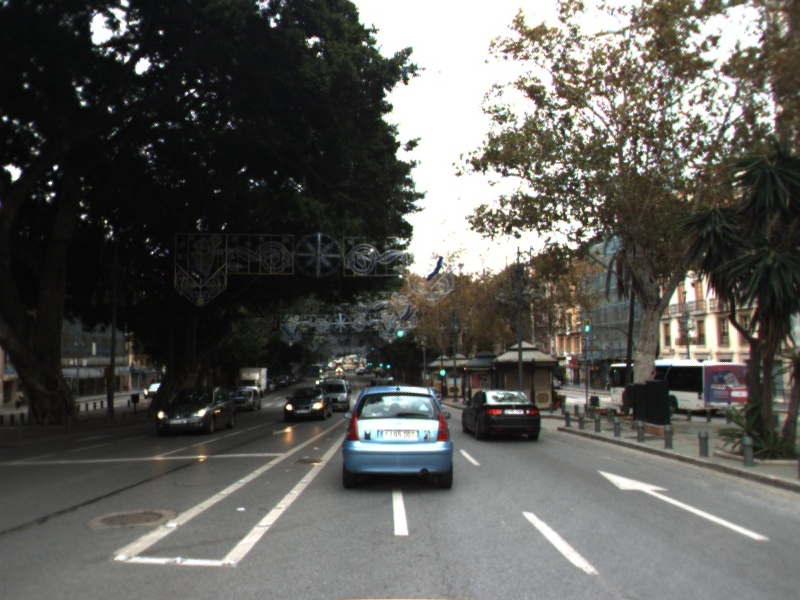STRAIGHT: (595, 468, 773, 543)
